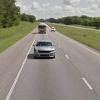Car: (27, 37, 58, 62)
